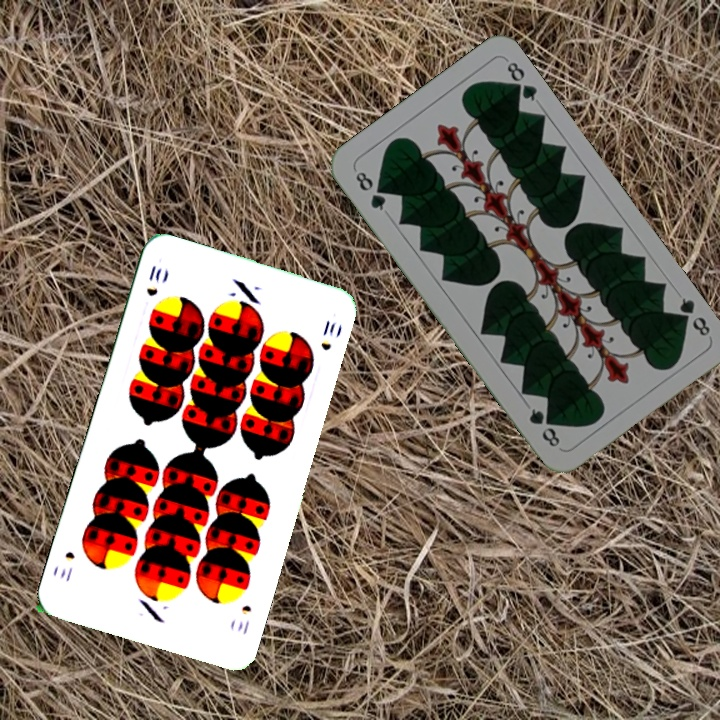G8: (672, 293, 713, 339), (351, 167, 389, 214)
S10: (142, 261, 164, 299), (233, 601, 254, 637)
